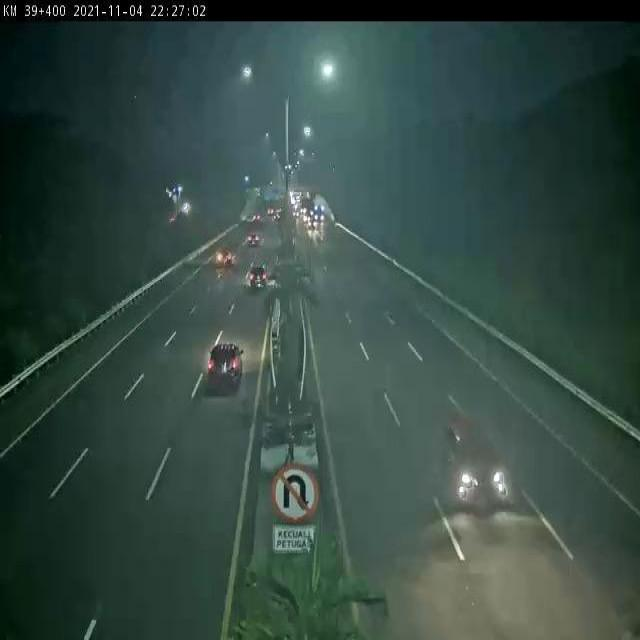car: (442, 415, 514, 509), (206, 338, 243, 386), (247, 261, 271, 291)
